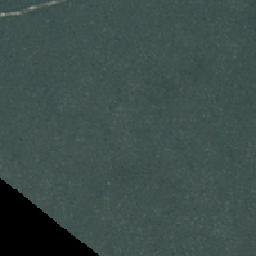debris: (1, 1, 61, 16)
